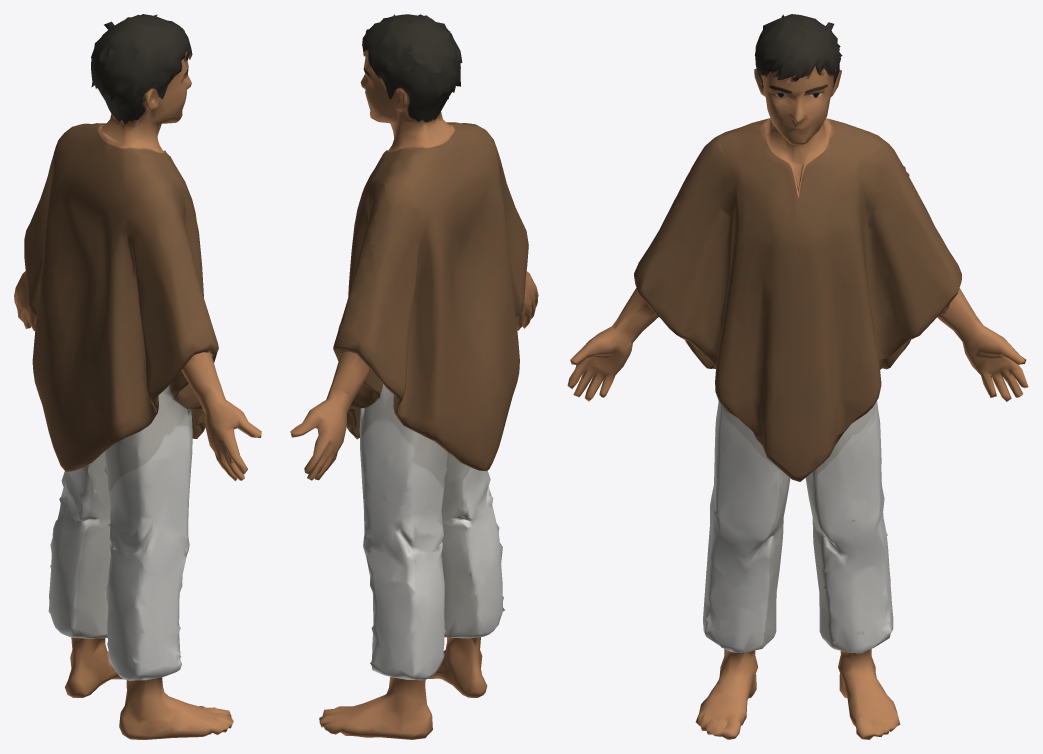
File: 71ddaad2-909b-4495-8406-0f806b122cf6_model_url.glb
3 views of the same model, side by side, from view 1: azimuth 30°, elevation 25°; view 2: azimuth 150°, elevation 25°; view 3: azimuth 270°, elevation 25° (orthographic).
Visible parts, largest first — view 1: tripo_node_71ddaad2-909b-4495-8406-0f806b122cf6; view 2: tripo_node_71ddaad2-909b-4495-8406-0f806b122cf6; view 3: tripo_node_71ddaad2-909b-4495-8406-0f806b122cf6.
Part boxes in pixels (bbox=[...]): tripo_node_71ddaad2-909b-4495-8406-0f806b122cf6: bbox=[14, 14, 261, 739]; tripo_node_71ddaad2-909b-4495-8406-0f806b122cf6: bbox=[290, 14, 538, 739]; tripo_node_71ddaad2-909b-4495-8406-0f806b122cf6: bbox=[567, 14, 1028, 739].
Bounding box in the file's own units: 0.2046 × 1 × 0.5997.
Materials: 1 (1 with a texture image).
